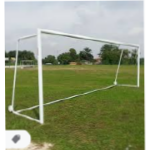goals: (10, 27, 141, 125)
